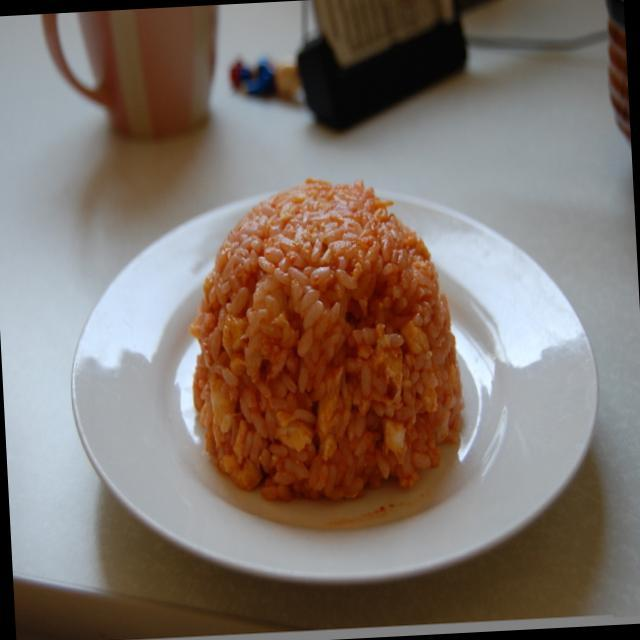Rice: (180, 169, 474, 512)
